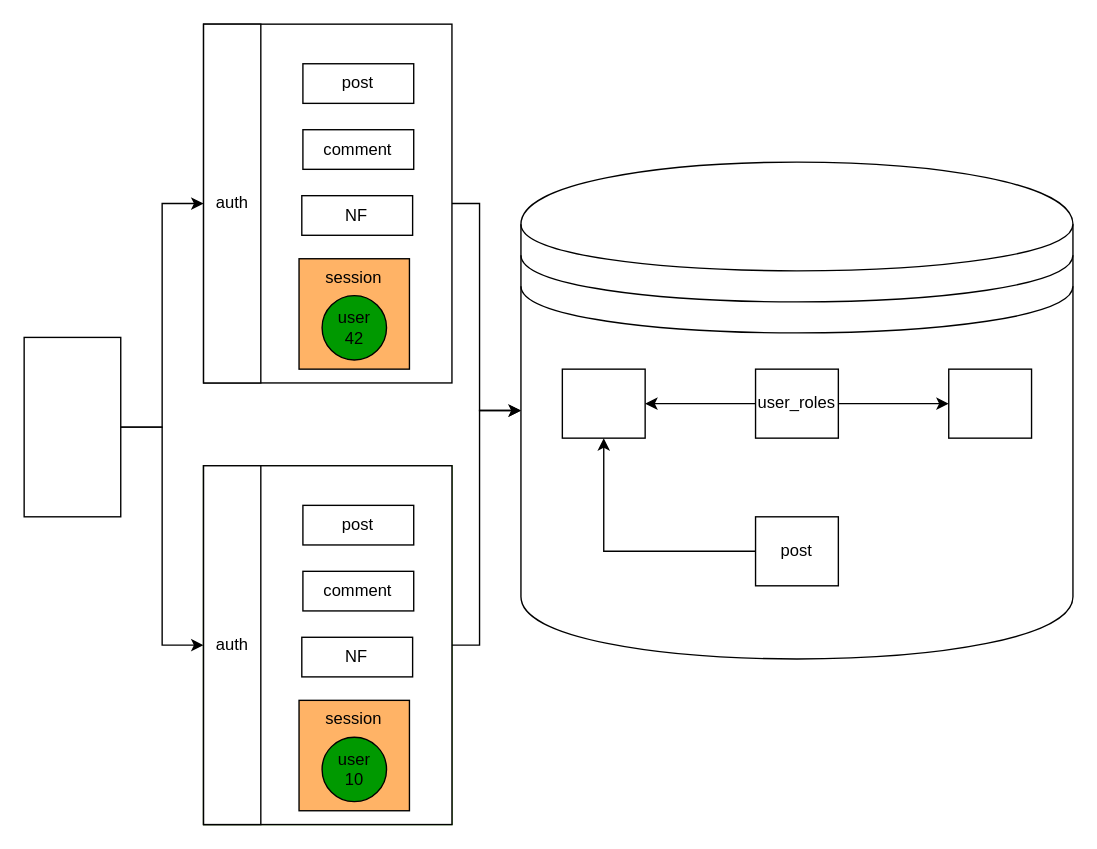
Some shapes in this 1097 by 849 pixel diagram are drawn without their labels. Here are the shapes that lost their labels. From the top down, the centre of each, then its label:
At pixel 603 403: "users".
At pixel 989 403: "roles".
At pixel 72 426: "load balancer".
